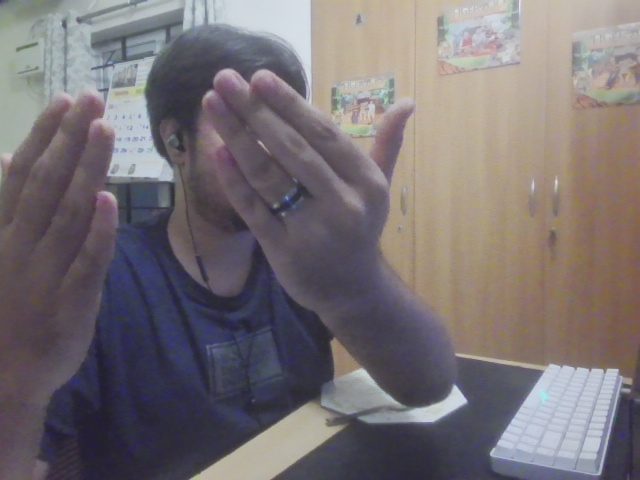thankyou: (1, 63, 421, 392)
